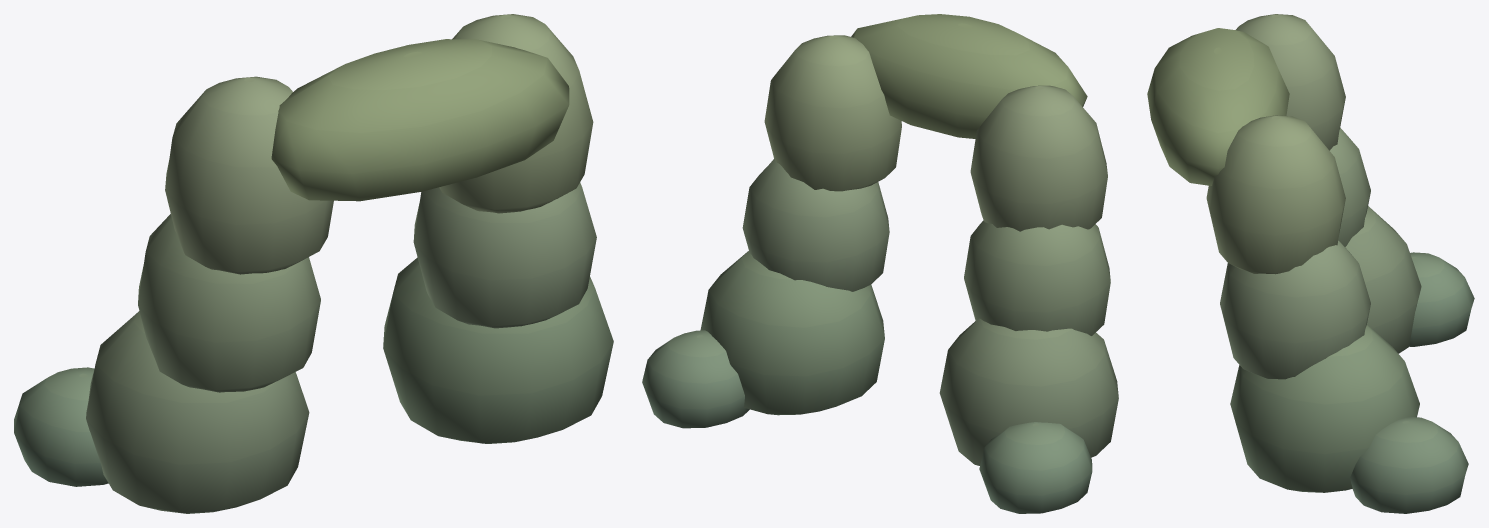
The model's file is Origin_Waterfall_Rock_Frame.glb.
The picture shows the model from 3 angles, left to right: view 1: azimuth 30°, elevation 25°; view 2: azimuth 150°, elevation 25°; view 3: azimuth 270°, elevation 25°; orthographic projection. The views are drawn at different scales.
Visible parts, largest first — view 1: Origin_Waterfall_Rock_Frame; view 2: Origin_Waterfall_Rock_Frame; view 3: Origin_Waterfall_Rock_Frame.
Boxes of the visible parts, bbox=[...] form: Origin_Waterfall_Rock_Frame: bbox=[14, 14, 613, 513]; Origin_Waterfall_Rock_Frame: bbox=[642, 14, 1118, 513]; Origin_Waterfall_Rock_Frame: bbox=[1147, 14, 1474, 513].
Size of the model in its own units: 3.44 by 2.72 by 2.21.
